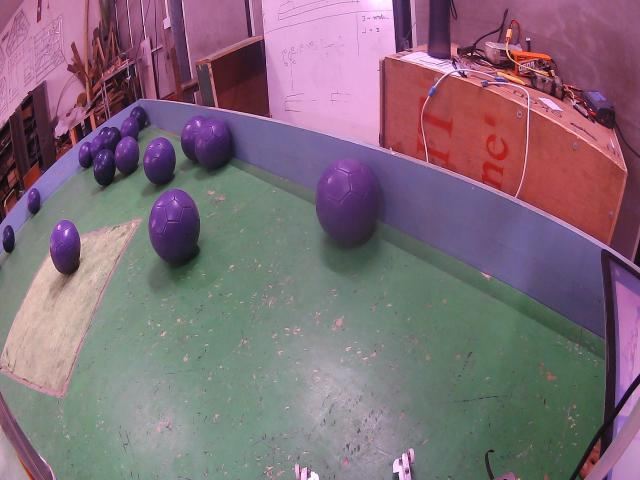jambhalya: (316, 158, 379, 245), (149, 190, 200, 263), (181, 115, 231, 170), (50, 220, 81, 275), (144, 137, 176, 185), (115, 137, 140, 175), (120, 117, 140, 140), (90, 135, 105, 159), (79, 142, 92, 168), (28, 188, 40, 215)
kaalyya: (94, 150, 116, 185), (104, 127, 121, 153), (130, 107, 146, 130), (2, 225, 15, 253), (100, 127, 110, 137)
